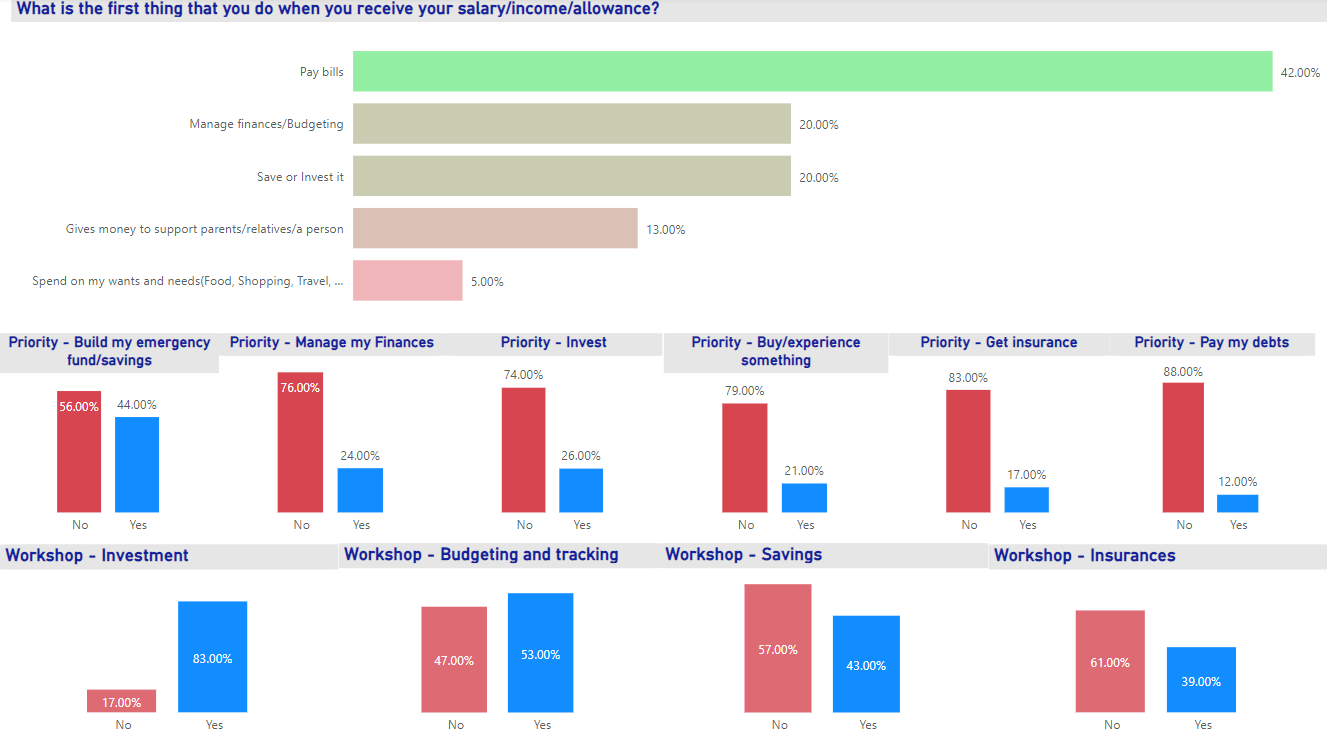

Layout of this report page (visuals, bound fields, positions):
{"tool":"powerbi","page":{"name":"Participant Survey - Priority and Workshop","canvas":[1280,720],"ordinal":4},"visuals":[{"type":"columnChart","title":"Priority - Pay my debts","fields":{"Category":["Pinoy Money Habits.Priority - Pay my debts"],"Y":["CountNonNull(Pinoy Money Habits.Respondent)"]},"box":[1070.3,323.8,199,203.1],"z":0},{"type":"columnChart","title":"Priority - Manage my Finances","fields":{"Category":["Pinoy Money Habits.Priority - manage my finances "],"Y":["CountNonNull(Pinoy Money Habits.Respondent)"]},"box":[211.3,323.8,218.2,203.1],"z":1000},{"type":"columnChart","title":"Priority - Build my emergency fund/savings","fields":{"Category":["Pinoy Money Habits.Priority - Build my emergency fund/ savings"],"Y":["CountNonNull(Pinoy Money Habits.Respondent)"]},"box":[0,323.8,211.3,203.1],"z":2000},{"type":"clusteredColumnChart","title":"Priority - Buy/experience something","fields":{"Y":["Sum(Pinoy Money Habits.Respondent)"],"Category":["Pinoy Money Habits.Priority - buy/experience"]},"box":[640.8,323.8,216.8,203.1],"z":3000},{"type":"clusteredColumnChart","title":"Priority - Get insurance","fields":{"Y":["Sum(Pinoy Money Habits.Respondent)"],"Category":["Pinoy Money Habits.Priority - Get insurance"]},"box":[857.6,323.8,212.7,203.1],"z":4000},{"type":"clusteredColumnChart","title":"Priority - Invest","fields":{"Y":["Sum(Pinoy Money Habits.Respondent)"],"Category":["Pinoy Money Habits.Priority - Invest"]},"box":[429.5,323.8,209.9,203.1],"z":5000},{"type":"clusteredBarChart","title":"What is the first thing that you do when you receive your salary/income/allowance?","fields":{"Category":["Pinoy Money Habits.What is the first thing that you do when you receive your salary/income/allowance?"],"Y":["CountNonNull(Pinoy Money Habits.Respondent)"]},"box":[11,0,1269.3,319.7],"z":6000},{"type":"columnChart","title":"Workshop - Budgeting and tracking","fields":{"Category":["Pinoy Money Habits.Workshop - Budgeting and tracking"],"Y":["Sum(Pinoy Money Habits.Respondent)"],"Series":["Pinoy Money Habits.Workshop - Budgeting and tracking"]},"box":[326.6,526.9,310.1,193.5],"z":7000},{"type":"columnChart","title":"Workshop - Insurances","fields":{"Category":["Pinoy Money Habits.Workshop - Insurances"],"Y":["CountNonNull(Pinoy Money Habits.Workshop - Insurances)"],"Series":["Pinoy Money Habits.Workshop - Insurances"]},"box":[953.7,528.3,326.6,192.1],"z":8000},{"type":"columnChart","title":"Workshop - Investment","fields":{"Category":["Pinoy Money Habits.Workshop - Investments"],"Y":["CountNonNull(Pinoy Money Habits.Workshop - Investments)"],"Series":["Pinoy Money Habits.Workshop - Investments"]},"box":[0,528.3,326.6,192.1],"z":9000},{"type":"columnChart","title":"Workshop - Savings","fields":{"Category":["Pinoy Money Habits.Workshop - Savings"],"Y":["CountNonNull(Pinoy Money Habits.Workshop - Savings)"],"Series":["Pinoy Money Habits.Workshop - Savings"]},"box":[636.7,526.9,317,193.5],"z":10000}]}

Visuals, with their boxes in screenshot pixels (x1, y1, x2, y2), scaled from the page's 1280x720 canvas onto the 1327x743 screenshot:
"Priority - Pay my debts" columnChart: region(1110, 334, 1316, 544)
"Priority - Manage my Finances" columnChart: region(219, 334, 445, 544)
"Priority - Build my emergency fund/savings" columnChart: region(0, 334, 219, 544)
"Priority - Buy/experience something" clusteredColumnChart: region(664, 334, 889, 544)
"Priority - Get insurance" clusteredColumnChart: region(889, 334, 1110, 544)
"Priority - Invest" clusteredColumnChart: region(445, 334, 663, 544)
"What is the first thing that you do when you receive your salary/income/allowance?" clusteredBarChart: region(11, 0, 1326, 330)
"Workshop - Budgeting and tracking" columnChart: region(339, 544, 660, 742)
"Workshop - Insurances" columnChart: region(989, 545, 1326, 742)
"Workshop - Investment" columnChart: region(0, 545, 339, 742)
"Workshop - Savings" columnChart: region(660, 544, 989, 742)
